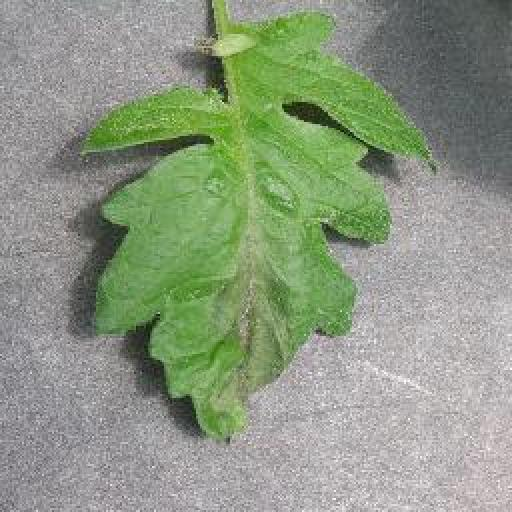disease_tomato: (76, 6, 436, 450)
